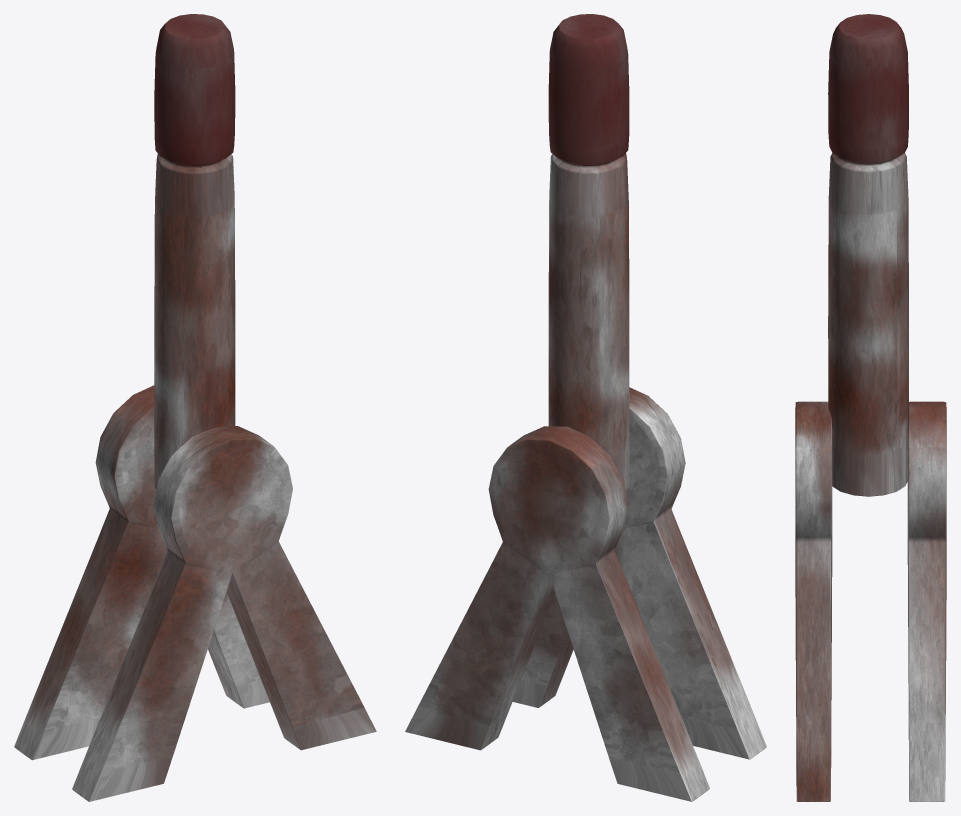
Rendered from Lever.fbx.
The picture shows the model from 3 angles, left to right: view 1: azimuth 30°, elevation 25°; view 2: azimuth 150°, elevation 25°; view 3: azimuth 270°, elevation 25°; orthographic projection.
Parts seen in each view (by area): view 1: Leg_R, Lever, Leg_L; view 2: Leg_L, Lever, Leg_R; view 3: Lever, Leg_L, Leg_R.
Boxes of the visible parts, x1,y1,x2,y2 form: Leg_R: (72, 426, 376, 801); Lever: (154, 14, 235, 489); Leg_L: (14, 385, 269, 760); Leg_L: (405, 426, 709, 801); Lever: (548, 14, 629, 489); Leg_R: (512, 387, 766, 759); Lever: (828, 14, 908, 496); Leg_L: (907, 401, 946, 801); Leg_R: (795, 401, 832, 801).
Size of the model in its own units: 0.0675 by 0.16 by 0.0311.
